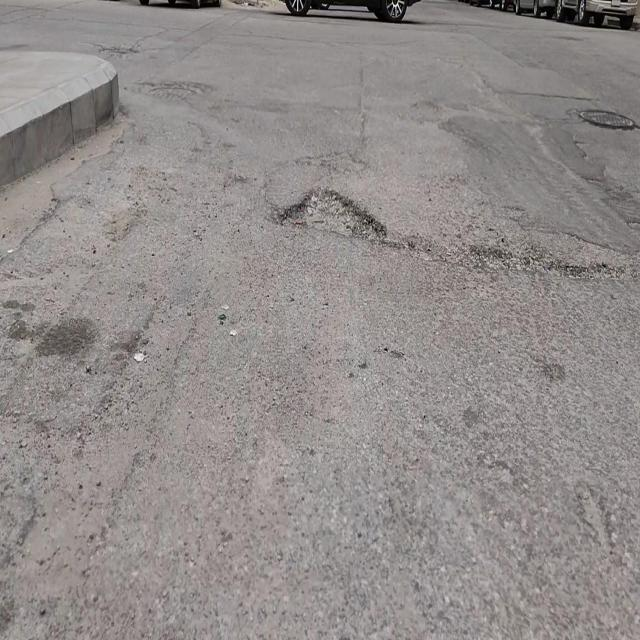Pothole: (276, 180, 390, 248)
